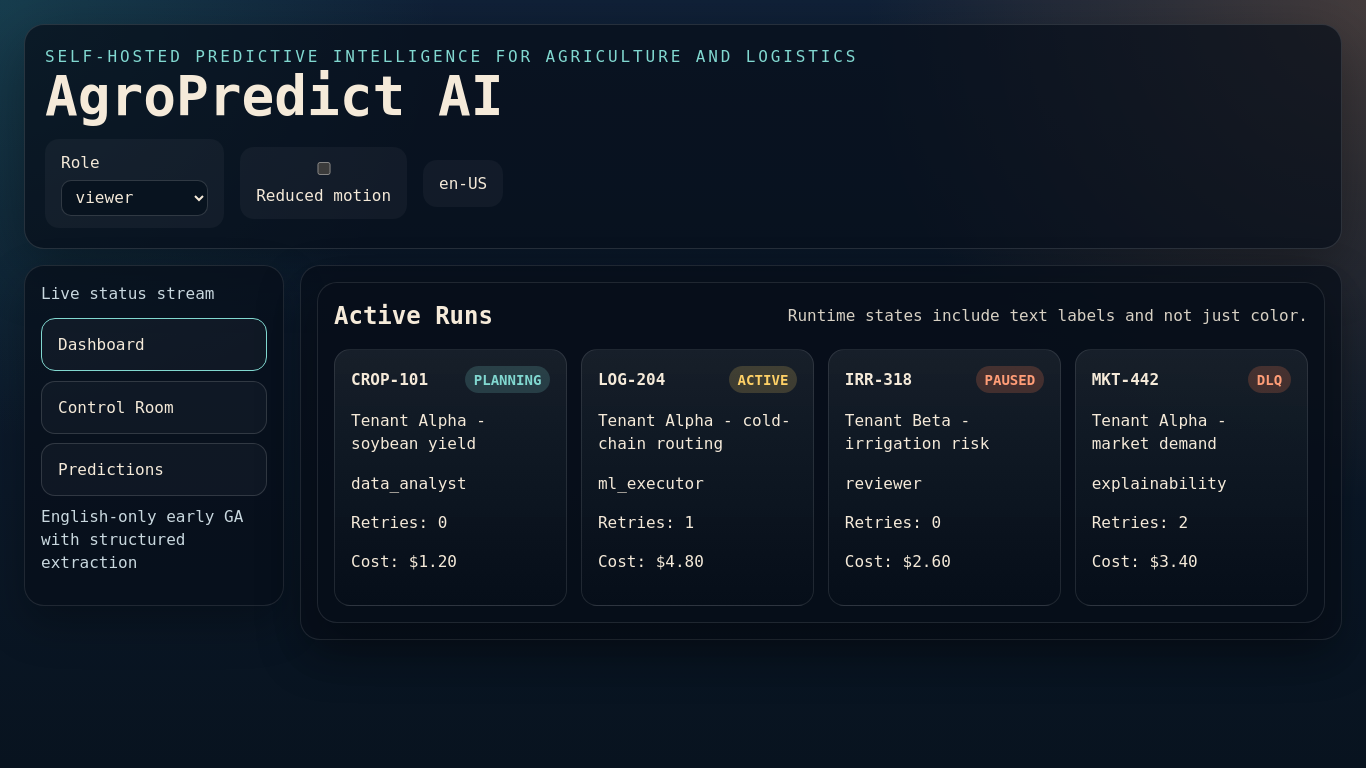
it: App › shows persistence status details in the admin panel
Select "admin" in the dropdown labelled "Role": (135, 198) [61,180,208,216]
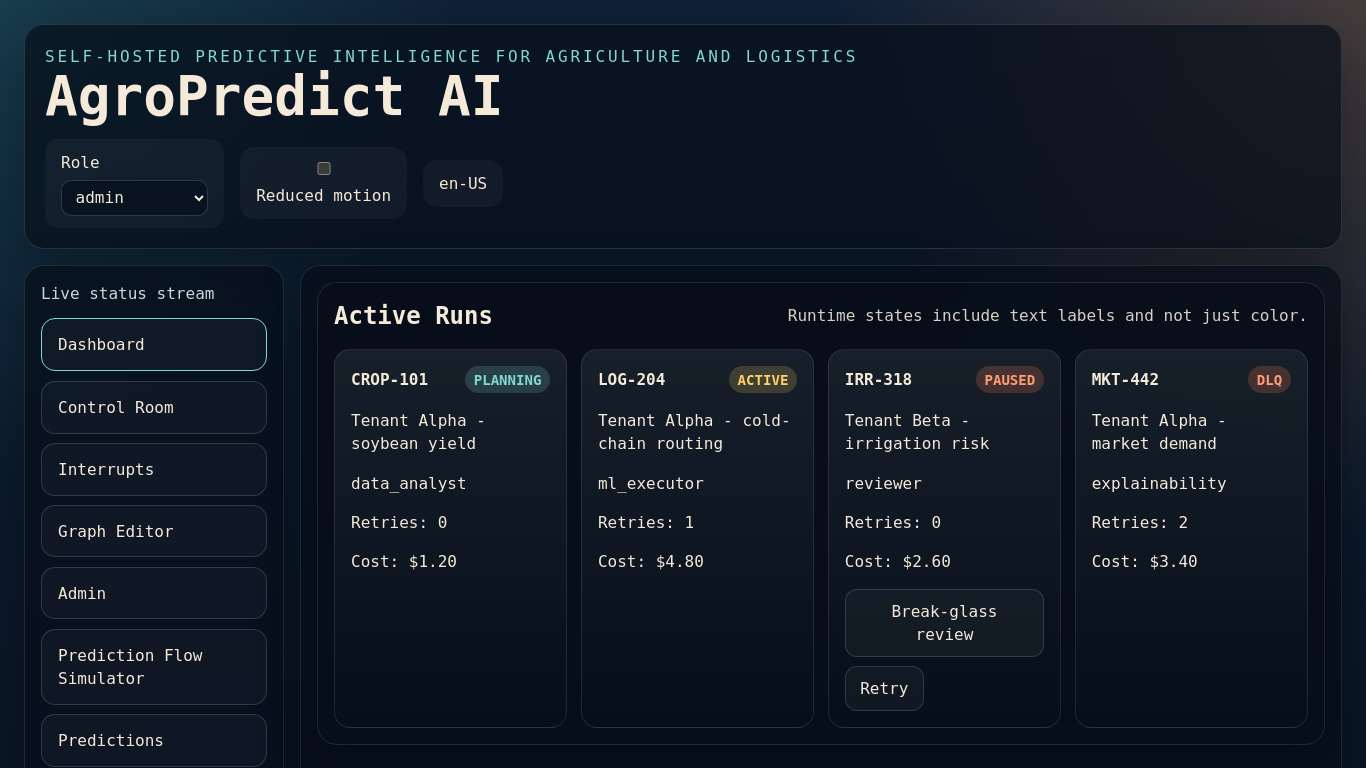
Click the button "Admin": (154, 593) [41,567,267,620]
(page scrolled)
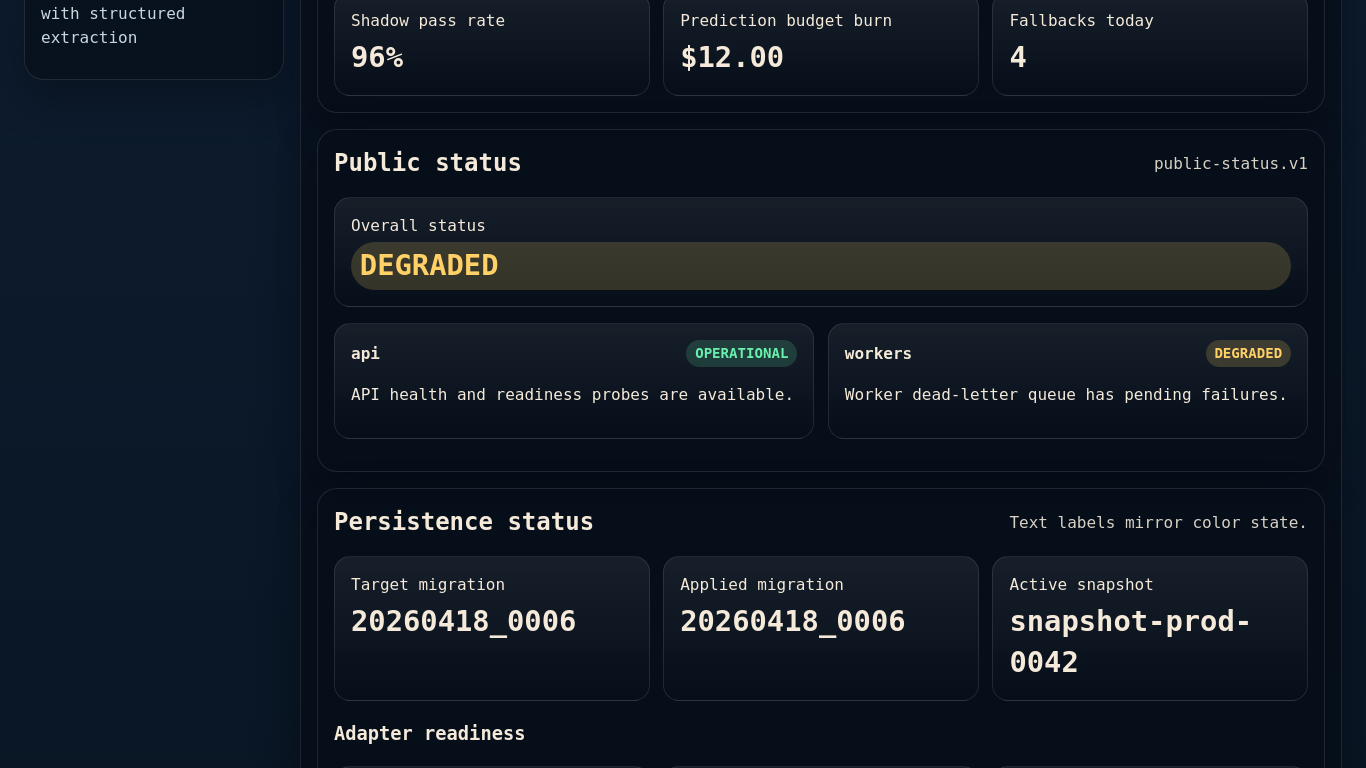
Expected: the heading "Persistence status" is shown, [334,505,594,540]
Expected: the text "20260418_0006" is shown 2 times, [351,604,576,638]; [680,604,906,638]
Expected: the text "snapshot-prod-0042" is shown, [1009,601,1291,684]
